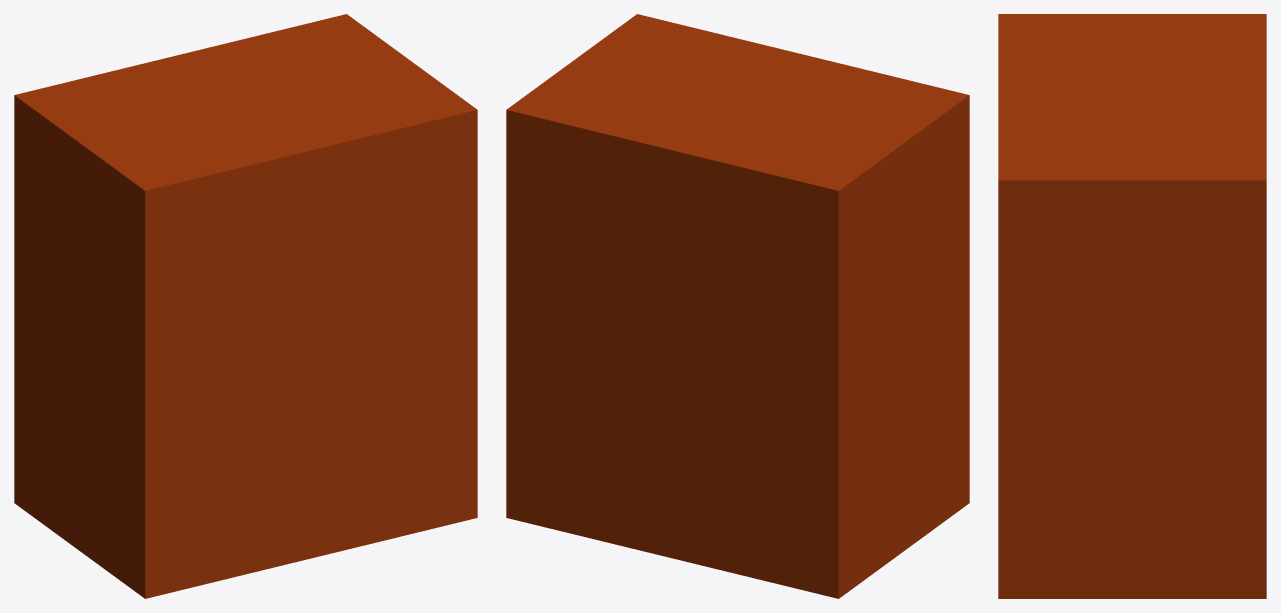
Rendered from MagmaElemental_1_000002.obj.
3 views of the same model, side by side, from view 1: azimuth 30°, elevation 25°; view 2: azimuth 150°, elevation 25°; view 3: azimuth 270°, elevation 25° (orthographic). The views are drawn at different scales.
Visible parts, largest first — view 1: Cube; view 2: Cube; view 3: Cube.
Boxes of the visible parts, x1,y1,x2,y2 form: Cube: (14, 14, 477, 598); Cube: (506, 14, 969, 598); Cube: (998, 14, 1266, 598).
Size of the model in its own units: 3.39 by 3.98 by 2.31.
